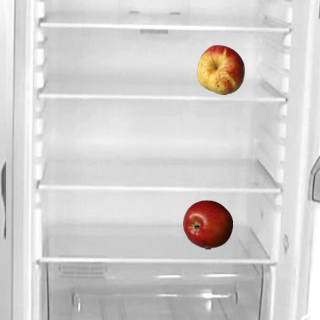Apple Braeburn: (182, 199, 232, 249)
Apple Red Yellow 1: (195, 44, 245, 94)
